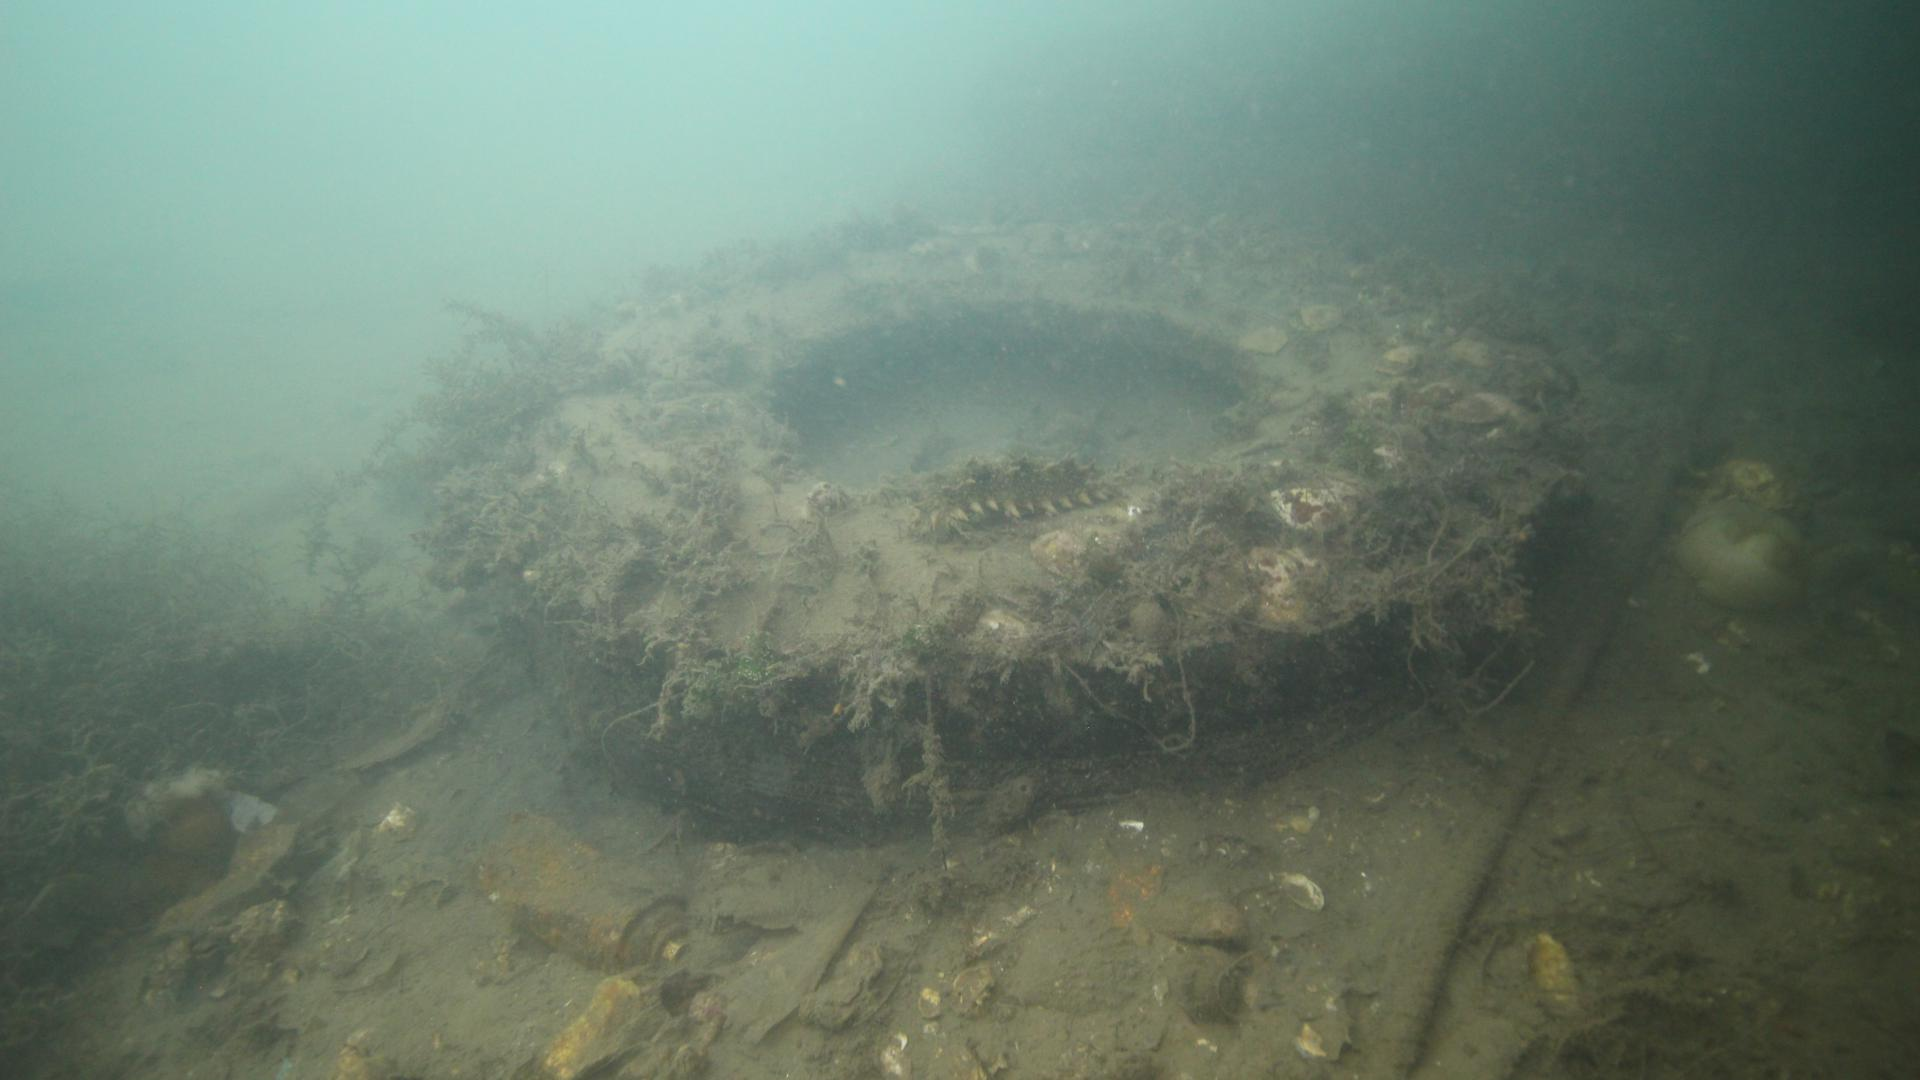tire: (500, 218, 1542, 828)
